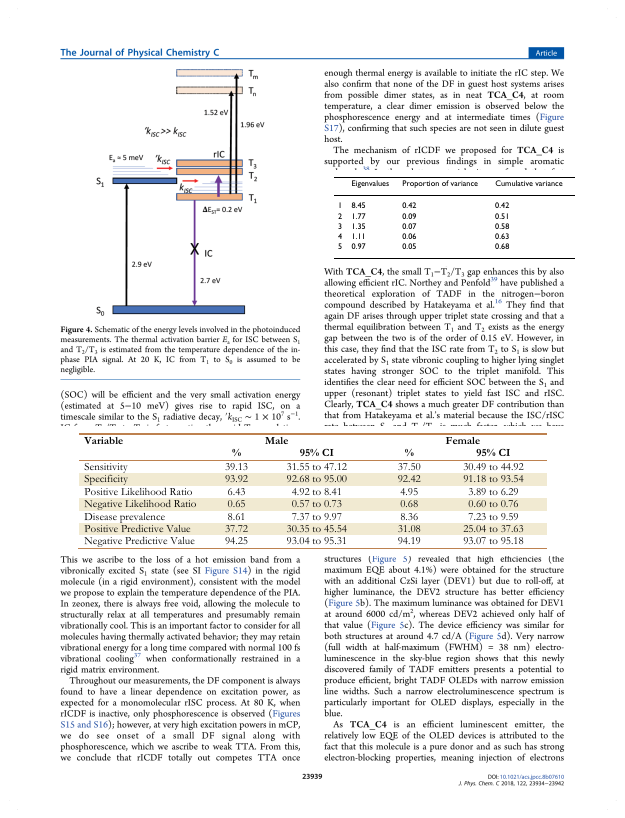borderless: (79, 431, 547, 548), (333, 175, 575, 259)
cell: (83, 499, 197, 511), (83, 536, 195, 548), (83, 486, 193, 498), (83, 524, 191, 536), (83, 511, 165, 523), (401, 179, 478, 189), (285, 462, 347, 474), (462, 462, 524, 474), (285, 474, 347, 486), (462, 474, 524, 486), (285, 524, 347, 536), (462, 524, 524, 536), (285, 536, 347, 548), (462, 536, 524, 548), (494, 179, 563, 189), (290, 486, 342, 498), (467, 486, 519, 498), (290, 499, 342, 511), (467, 499, 519, 511), (290, 511, 342, 523), (467, 511, 519, 523), (83, 462, 128, 474), (83, 474, 128, 486), (83, 435, 124, 445), (350, 179, 390, 189), (444, 435, 480, 445), (298, 448, 334, 457), (475, 448, 511, 457), (223, 462, 248, 474), (396, 462, 421, 474), (223, 474, 248, 486), (396, 474, 421, 486), (223, 524, 248, 536), (396, 524, 421, 536), (223, 536, 248, 548), (396, 536, 421, 548), (263, 435, 289, 445), (226, 486, 246, 498), (226, 499, 246, 511), (226, 511, 246, 523), (399, 486, 418, 498), (399, 499, 418, 511), (399, 511, 418, 523), (350, 212, 366, 222), (401, 212, 417, 222), (494, 212, 510, 222), (350, 222, 366, 232), (401, 222, 417, 232), (494, 222, 510, 232), (350, 232, 366, 242), (401, 232, 417, 242), (494, 232, 510, 242), (350, 202, 366, 211), (401, 202, 417, 211), (494, 202, 510, 211), (350, 243, 366, 252), (401, 243, 417, 252), (494, 243, 510, 252), (230, 448, 241, 457), (403, 448, 414, 457), (336, 212, 343, 222), (336, 222, 343, 232), (336, 232, 343, 242), (336, 202, 343, 211), (336, 243, 343, 252)
